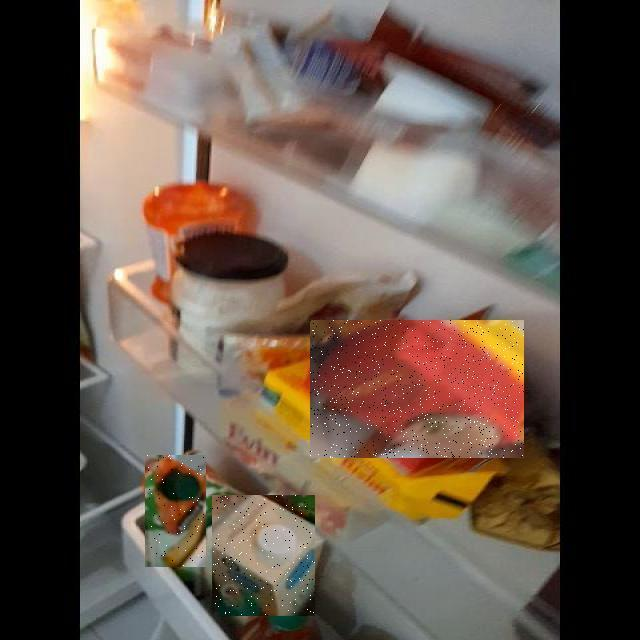Cheese: (310, 320, 524, 458)
Juice: (145, 455, 206, 567)
Milk: (212, 495, 315, 616)
